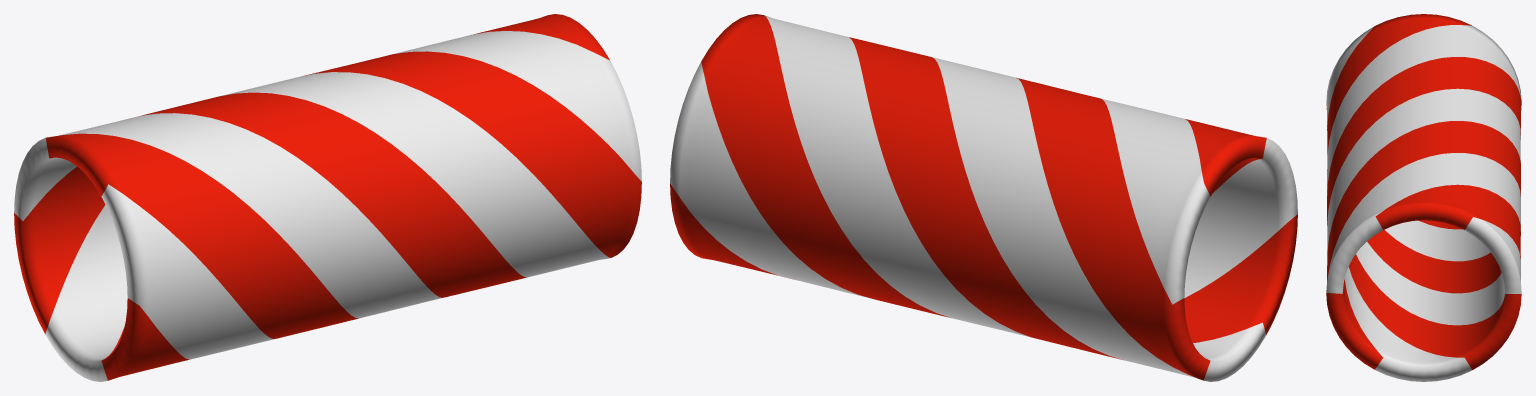
The model's file is Twisted_Tunnel(3.0).fbx.
3 views of the same model, side by side, from view 1: azimuth 30°, elevation 25°; view 2: azimuth 150°, elevation 25°; view 3: azimuth 270°, elevation 25° (orthographic). The views are drawn at different scales.
Visible parts, largest first — view 1: Circle; view 2: Circle; view 3: Circle.
Boxes of the visible parts, bbox=[...] form: Circle: bbox=[14, 14, 641, 381]; Circle: bbox=[670, 14, 1297, 381]; Circle: bbox=[1326, 14, 1521, 381].
Bounding box in the file's own units: 591 × 254 × 254.
